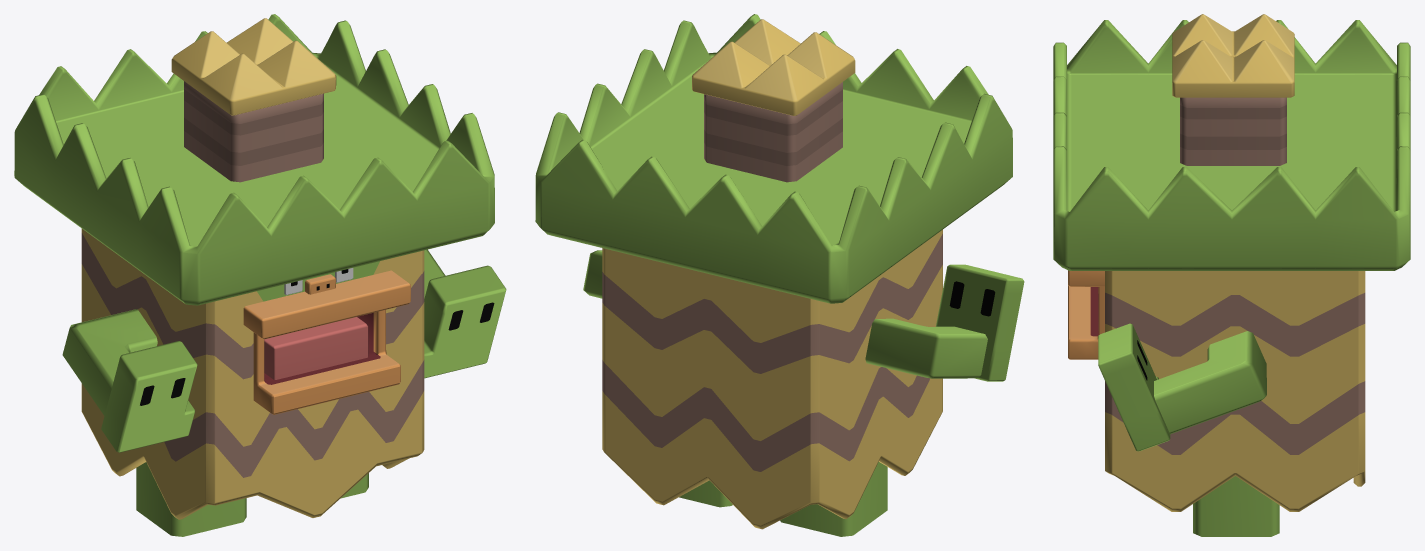
3 renders of one model, left to right at view 1: azimuth 30°, elevation 25°; view 2: azimuth 150°, elevation 25°; view 3: azimuth 270°, elevation 25°, orthographic.
Visible parts, largest first — view 1: model; view 2: model; view 3: model.
Boxes of the visible parts, x1=… form: model: x1=14, y1=14, x2=506, y2=536; model: x1=535, y1=14, x2=1024, y2=536; model: x1=1053, y1=14, x2=1410, y2=536.
Size of the model in its own units: 3.01 by 3.59 by 2.52.
